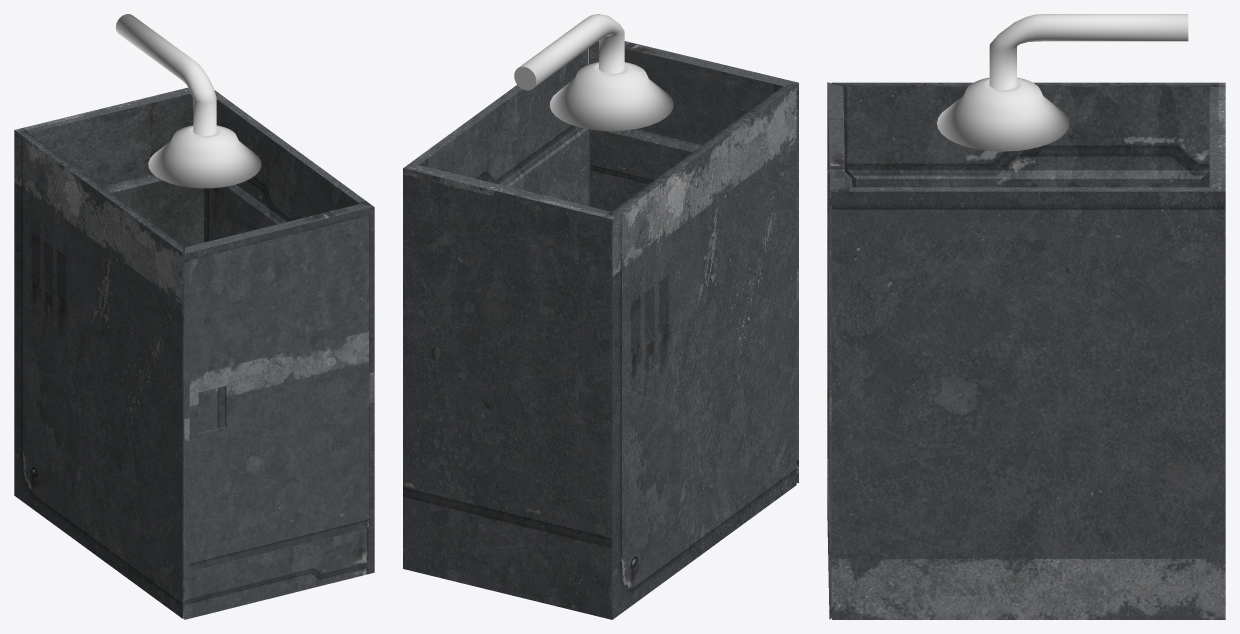
Rendered from Shower.fbx.
The picture shows the model from 3 angles, left to right: view 1: azimuth 30°, elevation 25°; view 2: azimuth 150°, elevation 25°; view 3: azimuth 270°, elevation 25°; orthographic projection. The views are drawn at different scales.
Parts seen in each view (by area): view 1: Shower, Shower door, Shower pipe; view 2: Shower, Shower door, Shower pipe; view 3: Shower, Shower pipe, Shower door.
Part boxes in pixels (bbox=[...]): Shower: bbox=[14, 87, 373, 618]; Shower door: bbox=[184, 204, 374, 619]; Shower pipe: bbox=[115, 14, 261, 188]; Shower: bbox=[403, 48, 796, 619]; Shower door: bbox=[588, 41, 798, 483]; Shower pipe: bbox=[514, 14, 673, 130]; Shower: bbox=[831, 82, 1225, 619]; Shower pipe: bbox=[937, 14, 1188, 151]; Shower door: bbox=[827, 82, 852, 619].
Bounding box in the file's own units: 94.39 × 222 × 145.
